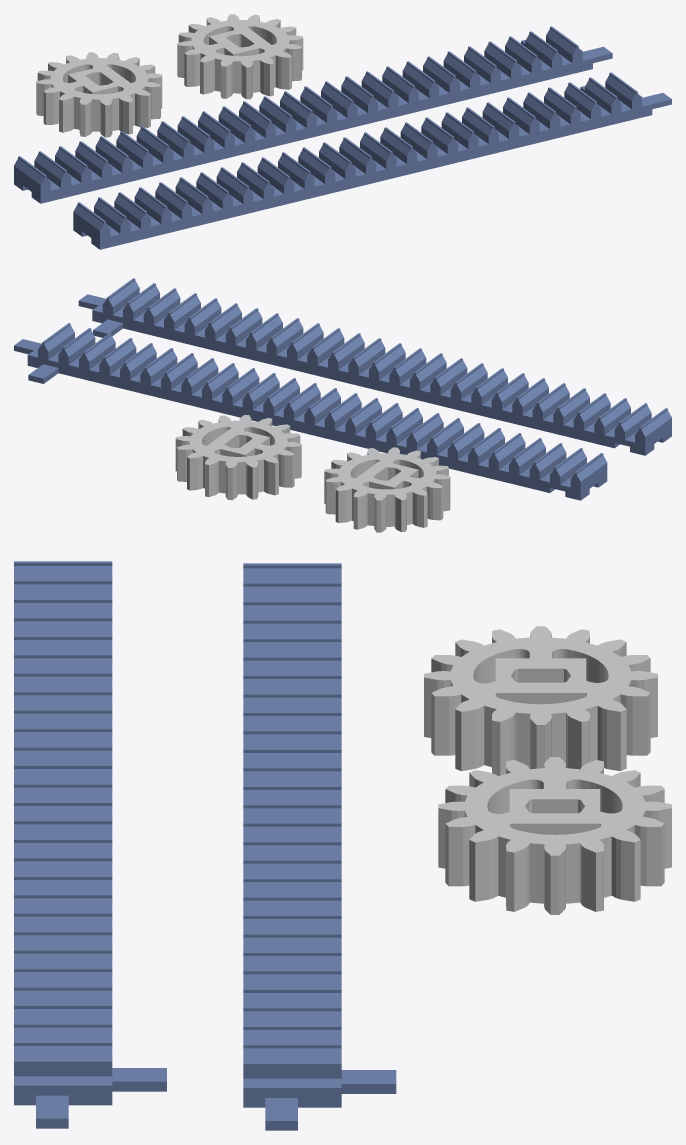
The model's file is Copy of Rack and Gear(Stepper Motor).glb.
3 renders of one model, top to bottom at view 1: azimuth 30°, elevation 25°; view 2: azimuth 150°, elevation 25°; view 3: azimuth 270°, elevation 25°, orthographic. The views are drawn at different scales.
Parts seen in each view (by area): view 1: Mesh_Mesh_head_geo.001_lambert2SG.001; view 2: Mesh_Mesh_head_geo.001_lambert2SG.001; view 3: Mesh_Mesh_head_geo.001_lambert2SG.001.
Boxes of the visible parts, left/top/right/bottom form: Mesh_Mesh_head_geo.001_lambert2SG.001: left=14, top=14, right=671, bottom=249; Mesh_Mesh_head_geo.001_lambert2SG.001: left=14, top=278, right=671, bottom=532; Mesh_Mesh_head_geo.001_lambert2SG.001: left=14, top=561, right=671, bottom=1130.
Bounding box in the file's own units: 114 × 6 × 60.25.
